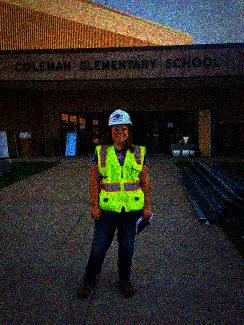helmet: (106, 107, 133, 145)
